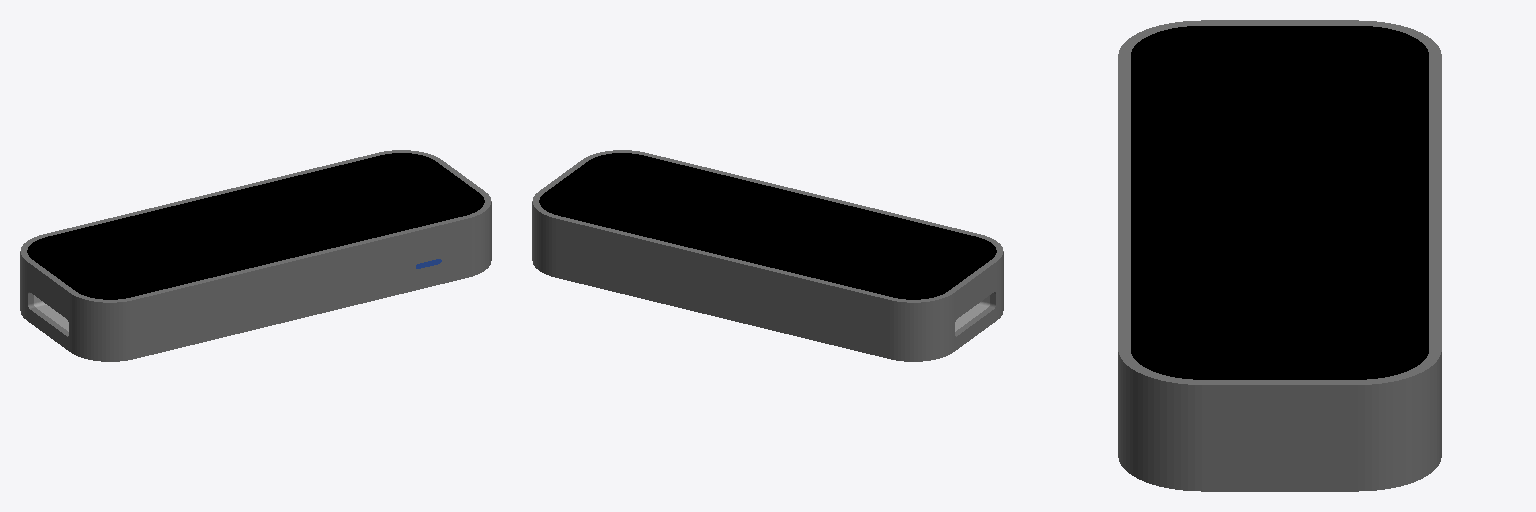
robot.urdf — onshape:
<?xml version="1.0"?>
<robot name="onshape">
	<link name="base_link">
		<visual>
			<origin xyz="-0.00149965 0.000663125 0.00029842" rpy="1.5708 -0 0" />
			<geometry>
				<mesh filename="package://leapmotion_display_rviz2/meshes/part_5.stl"/>
			</geometry>
			<material name="part_5_material">
				<color rgba="0.231373 0.380392 0.705882 1.0"/>
			</material>
		</visual>
		<collision>
			<origin xyz="-0.00149965 0.000663125 0.00029842" rpy="1.5708 -0 0" />
			<geometry>
				<mesh filename="package://leapmotion_display_rviz2/meshes/part_5.stl"/>
			</geometry>
			<material name="part_5_material">
				<color rgba="0.231373 0.380392 0.705882 1.0"/>
			</material>
		</collision>
		<visual>
			<origin xyz="-0.00149965 0.000663125 0.00029842" rpy="1.5708 -0 0" />
			<geometry>
				<mesh filename="package://leapmotion_display_rviz2/meshes/part_3.stl"/>
			</geometry>
			<material name="part_3_material">
				<color rgba="0.615686 0.811765 0.929412 1.0"/>
			</material>
		</visual>
		<collision>
			<origin xyz="-0.00149965 0.000663125 0.00029842" rpy="1.5708 -0 0" />
			<geometry>
				<mesh filename="package://leapmotion_display_rviz2/meshes/part_3.stl"/>
			</geometry>
			<material name="part_3_material">
				<color rgba="0.615686 0.811765 0.929412 1.0"/>
			</material>
		</collision>
		<visual>
			<origin xyz="-0.00149965 0.000663125 0.00029842" rpy="1.5708 -0 0" />
			<geometry>
				<mesh filename="package://leapmotion_display_rviz2/meshes/part_1.stl"/>
			</geometry>
			<material name="part_1_material">
				<color rgba="0.498039 0.498039 0.498039 1.0"/>
			</material>
		</visual>
		<collision>
			<origin xyz="-0.00149965 0.000663125 0.00029842" rpy="1.5708 -0 0" />
			<geometry>
				<mesh filename="package://leapmotion_display_rviz2/meshes/part_1.stl"/>
			</geometry>
			<material name="part_1_material">
				<color rgba="0.498039 0.498039 0.498039 1.0"/>
			</material>
		</collision>
		<visual>
			<origin xyz="-0.00149965 0.000663125 0.00029842" rpy="1.5708 -0 0" />
			<geometry>
				<mesh filename="package://leapmotion_display_rviz2/meshes/part_4.stl"/>
			</geometry>
			<material name="part_4_material">
				<color rgba="0.647059 0.647059 0.647059 1.0"/>
			</material>
		</visual>
		<collision>
			<origin xyz="-0.00149965 0.000663125 0.00029842" rpy="1.5708 -0 0" />
			<geometry>
				<mesh filename="package://leapmotion_display_rviz2/meshes/part_4.stl"/>
			</geometry>
			<material name="part_4_material">
				<color rgba="0.647059 0.647059 0.647059 1.0"/>
			</material>
		</collision>
		<visual>
			<origin xyz="-0.00149965 0.000663125 0.00029842" rpy="1.5708 -0 0" />
			<geometry>
				<mesh filename="package://leapmotion_display_rviz2/meshes/part_2.stl"/>
			</geometry>
			<material name="part_2_material">
				<color rgba="0 0 0 1.0"/>
			</material>
		</visual>
		<collision>
			<origin xyz="-0.00149965 0.000663125 0.00029842" rpy="1.5708 -0 0" />
			<geometry>
				<mesh filename="package://leapmotion_display_rviz2/meshes/part_2.stl"/>
			</geometry>
			<material name="part_2_material">
				<color rgba="0 0 0 1.0"/>
			</material>
		</collision>
		<inertial>
			<origin xyz="0 0 0" rpy="0 0 0"/>
			<mass value="0" />
			<inertia ixx="0" ixy="0"  ixz="0" iyy="0" iyz="0" izz="0" />
		</inertial>
	</link>
</robot>

--- Render facts (derived) ---
3 views of the same robot in one strip: view 1: azimuth 30°, elevation 25°; view 2: azimuth 150°, elevation 25°; view 3: azimuth 270°, elevation 25° (orthographic).
Model onshape with 1 links and 0 joints (none), rooted at base_link, posed every joint at zero.
Links seen in each view (by area): view 1: base_link; view 2: base_link; view 3: base_link.
Boxes of the visible links, bbox=[...] form: base_link: bbox=[20, 150, 491, 361]; base_link: bbox=[532, 150, 1003, 361]; base_link: bbox=[1118, 20, 1441, 491].
Bounding box of the posed robot: 0.08 × 0.03 × 0.0112 m (x, y, z).
5 mesh visuals loaded from 5 distinct referenced files (5 binary STL).